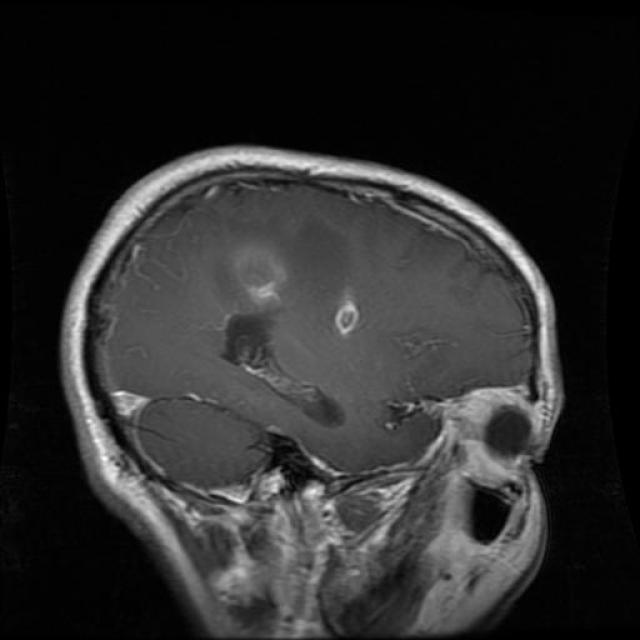glioma: (214, 240, 375, 432)
